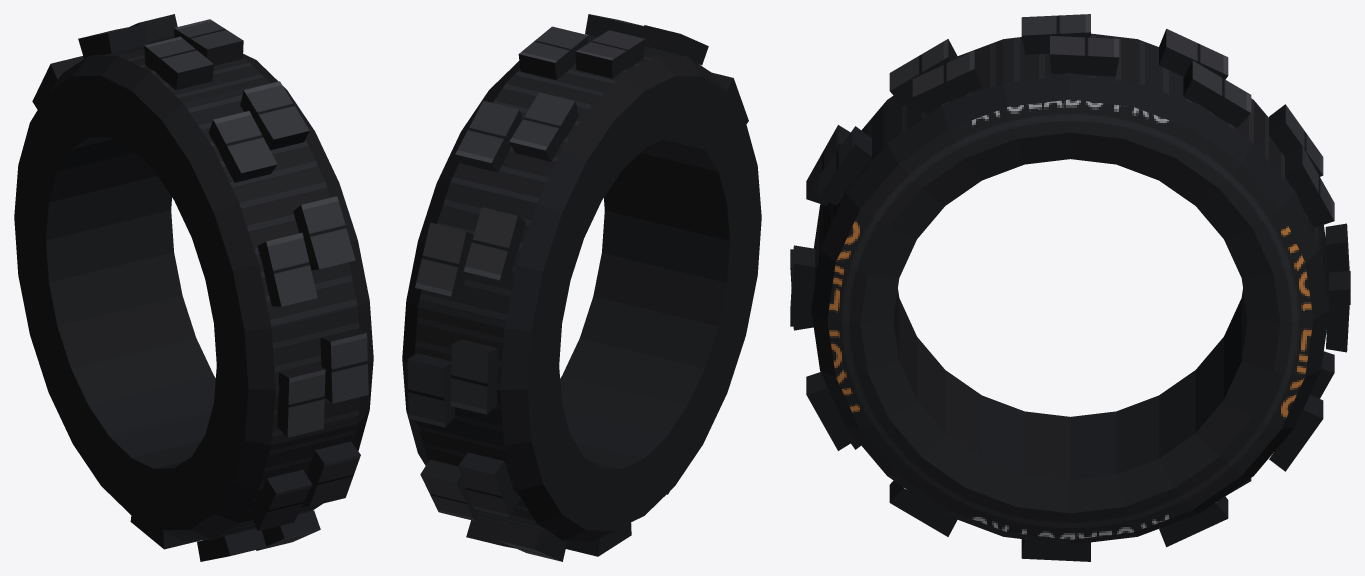
Rendered from tropeiro_atolado_pro.glb.
3 views of the same model, side by side, from view 1: azimuth 30°, elevation 25°; view 2: azimuth 150°, elevation 25°; view 3: azimuth 270°, elevation 25° (orthographic). The views are drawn at different scales.
Parts seen in each view (by area): view 1: tropeiro_atolado_pro; view 2: tropeiro_atolado_pro; view 3: tropeiro_atolado_pro.
Boxes of the visible parts, x1,y1,x2,y2 form: tropeiro_atolado_pro: (14, 14, 373, 561); tropeiro_atolado_pro: (402, 14, 761, 561); tropeiro_atolado_pro: (790, 14, 1350, 561).
Size of the model in its own units: 0.1901 by 0.6747 by 0.6747.
1 material, 1 textured.
